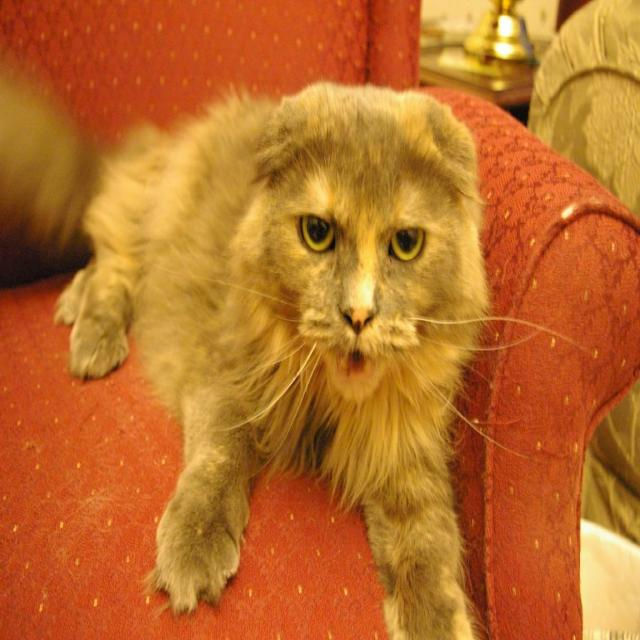Cat: (53, 66, 593, 639)
